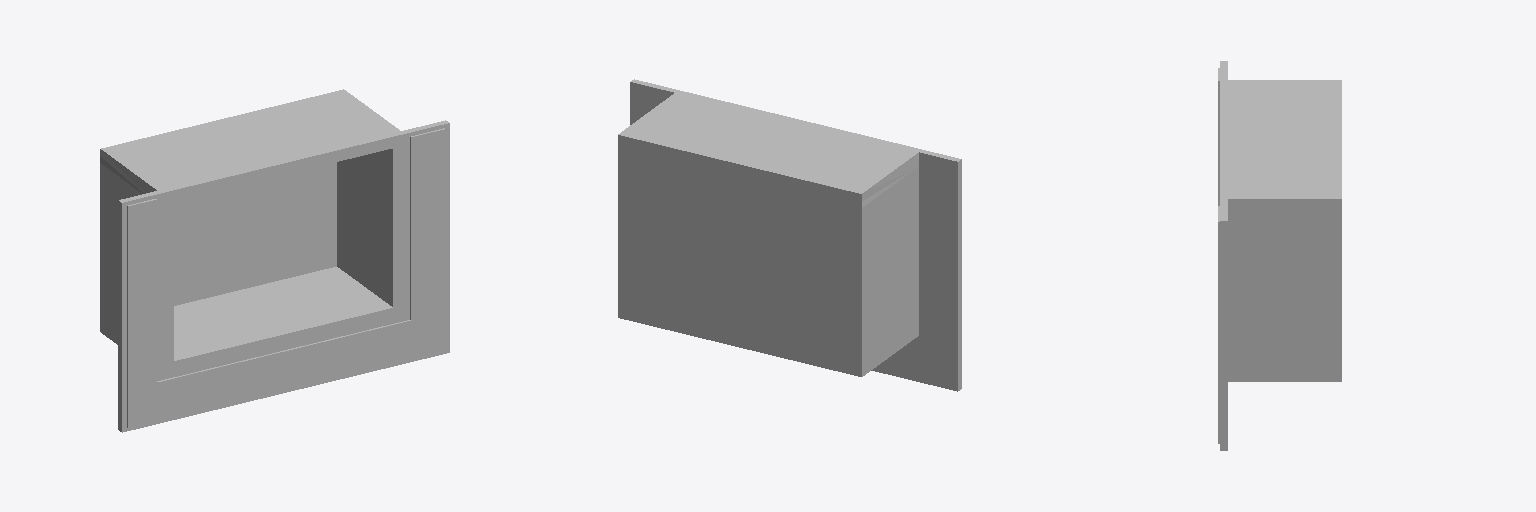
File: sink.obj
The picture shows the model from 3 angles: view 1: azimuth 30°, elevation 25°; view 2: azimuth 150°, elevation 25°; view 3: azimuth 270°, elevation 25°; orthographic projection.
Visible parts, largest first — view 1: waterTub_Cube; view 2: waterTub_Cube; view 3: waterTub_Cube.
Boxes of the visible parts, <box> form: waterTub_Cube: <box>100,89,449,432</box>; waterTub_Cube: <box>618,79,961,391</box>; waterTub_Cube: <box>1218,61,1341,450</box>.
Bounding box in the file's own units: 2.26 × 1.51 × 0.7405.